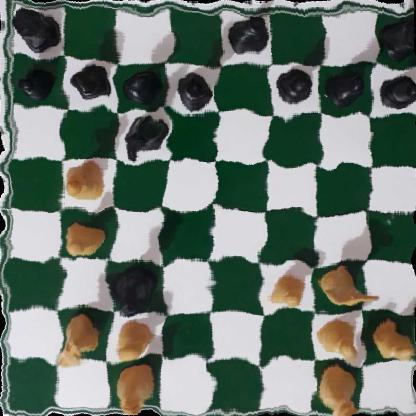black-bishop: (172, 71, 219, 110)
black-king: (224, 7, 271, 59)
black-knight: (124, 108, 169, 161)
black-pawn: (73, 63, 116, 101), (379, 71, 416, 111), (328, 63, 364, 103), (278, 67, 313, 108), (125, 66, 160, 107), (16, 61, 53, 97)
black-queen: (109, 264, 163, 323)
black-rook: (8, 0, 60, 50), (383, 12, 416, 58)
white-bishop: (112, 364, 159, 416), (61, 158, 109, 201)
white-king: (311, 363, 366, 416)
white-knight: (319, 259, 375, 305)
white-pawn: (316, 313, 360, 363), (111, 321, 161, 364), (370, 321, 416, 362), (268, 274, 308, 314), (63, 223, 105, 258)
white-rook: (57, 314, 98, 370)
